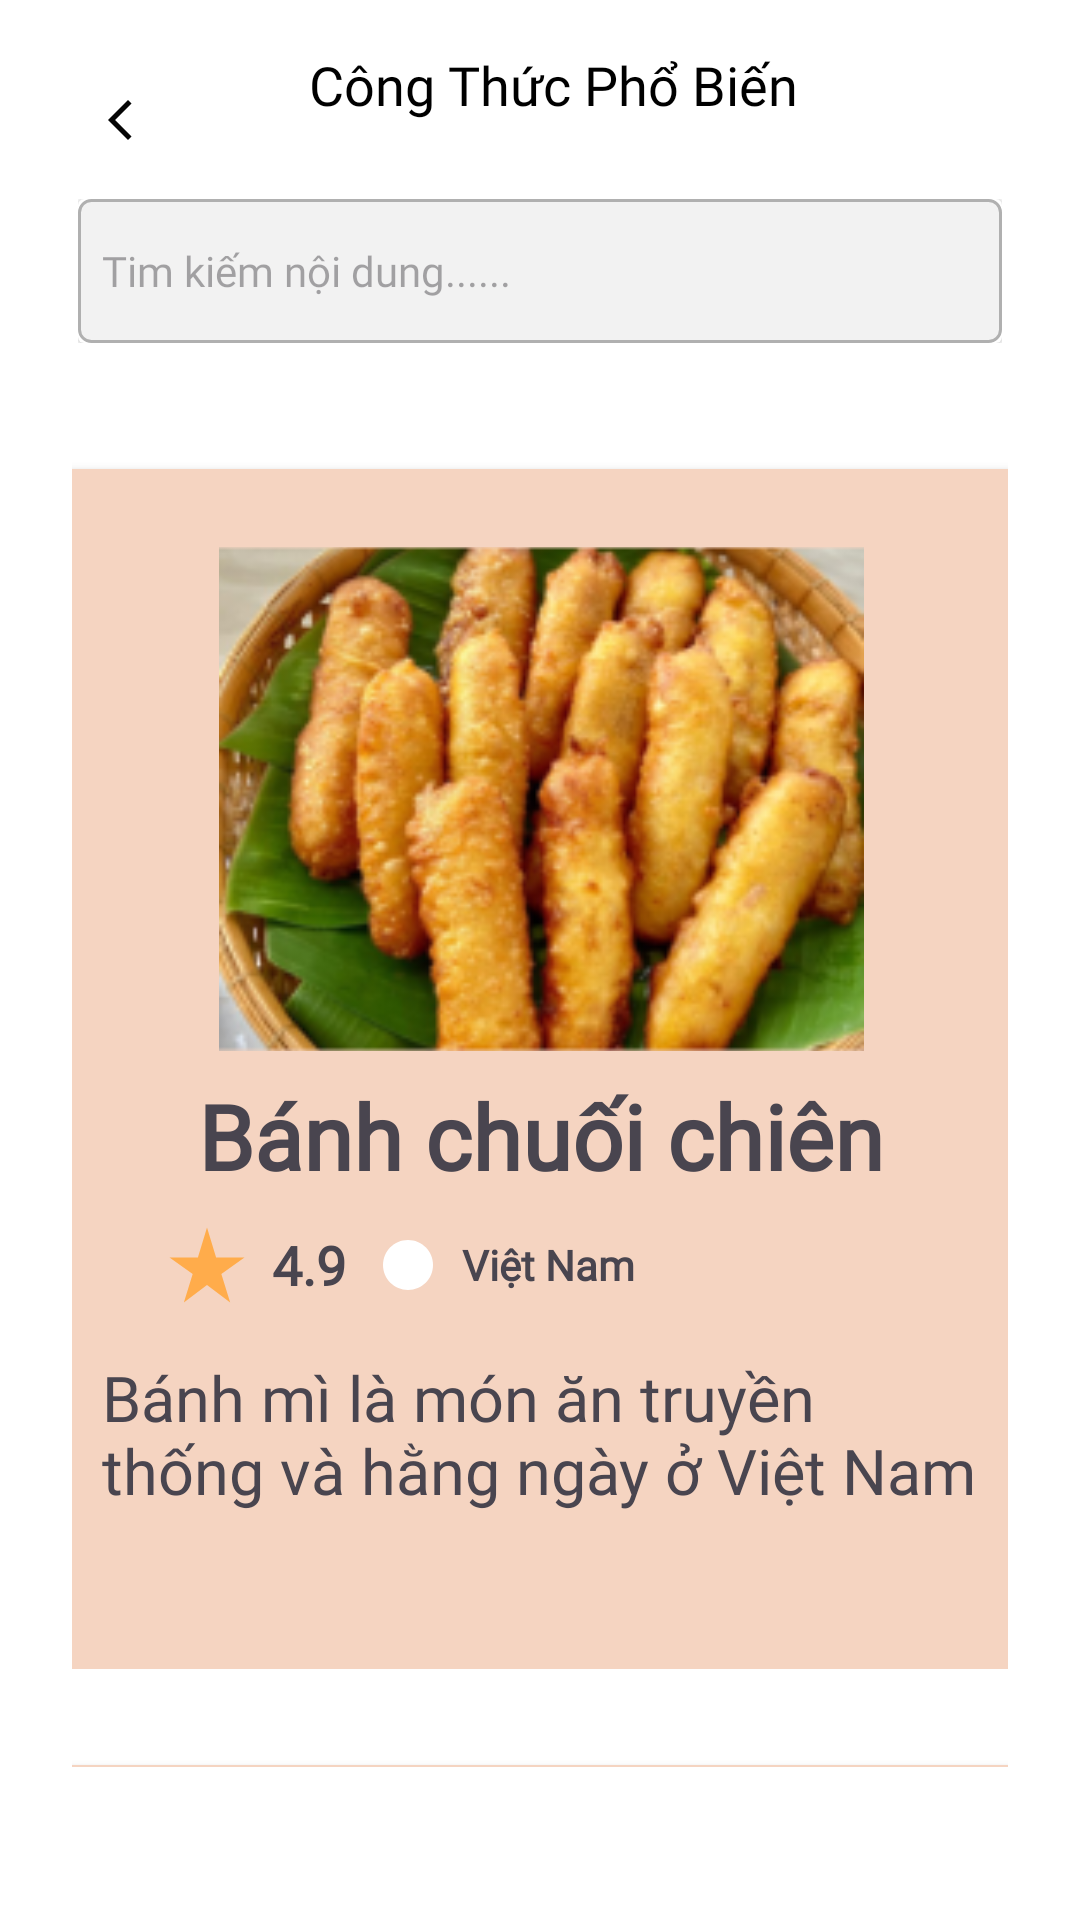

Named icons in this screenshot (1080×1920) and their bounding boxes, (x1, y1, x2, y2):
back: (108, 100, 132, 140)
star: (170, 1228, 244, 1302)
